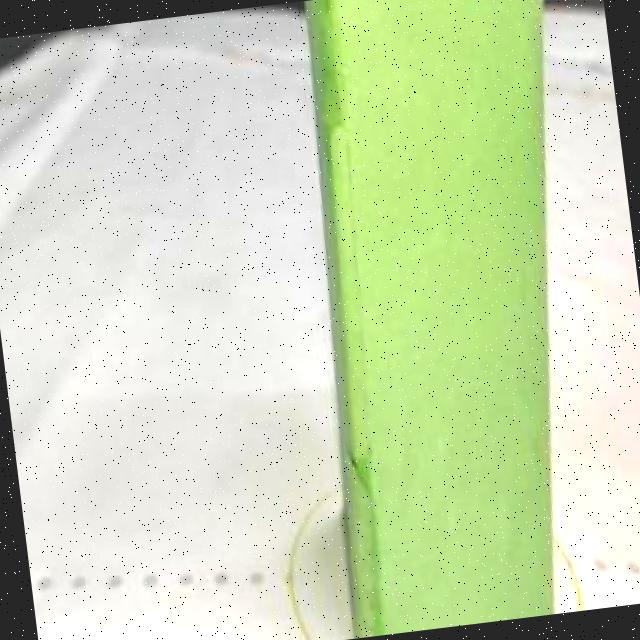greenbox: (274, 0, 617, 638)
